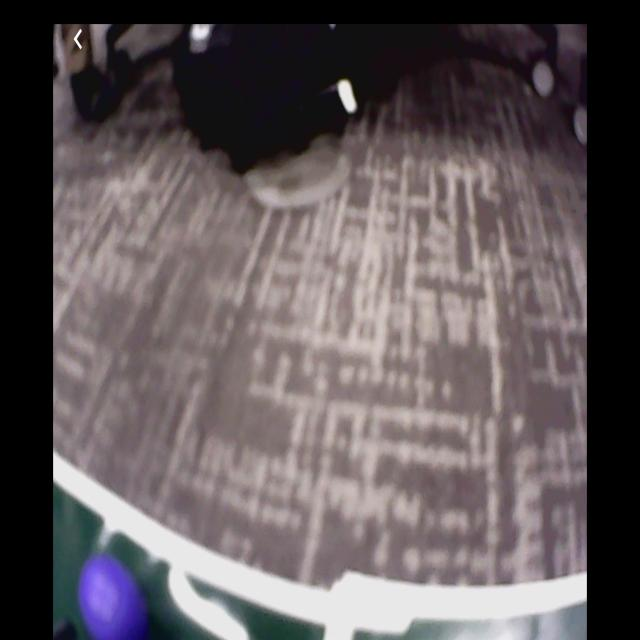ball: (77, 553, 147, 640)
